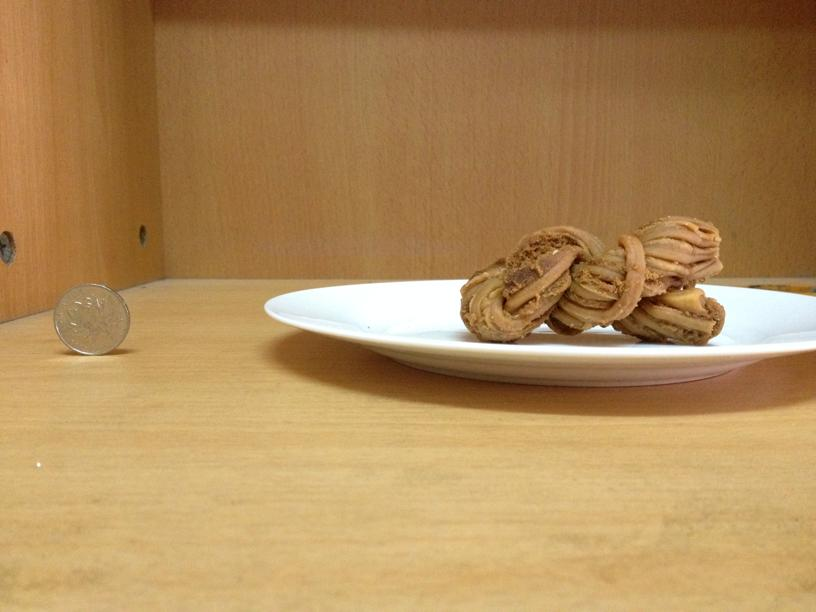coin: (53, 284, 129, 353)
fired_dough_twist: (459, 215, 726, 345)
